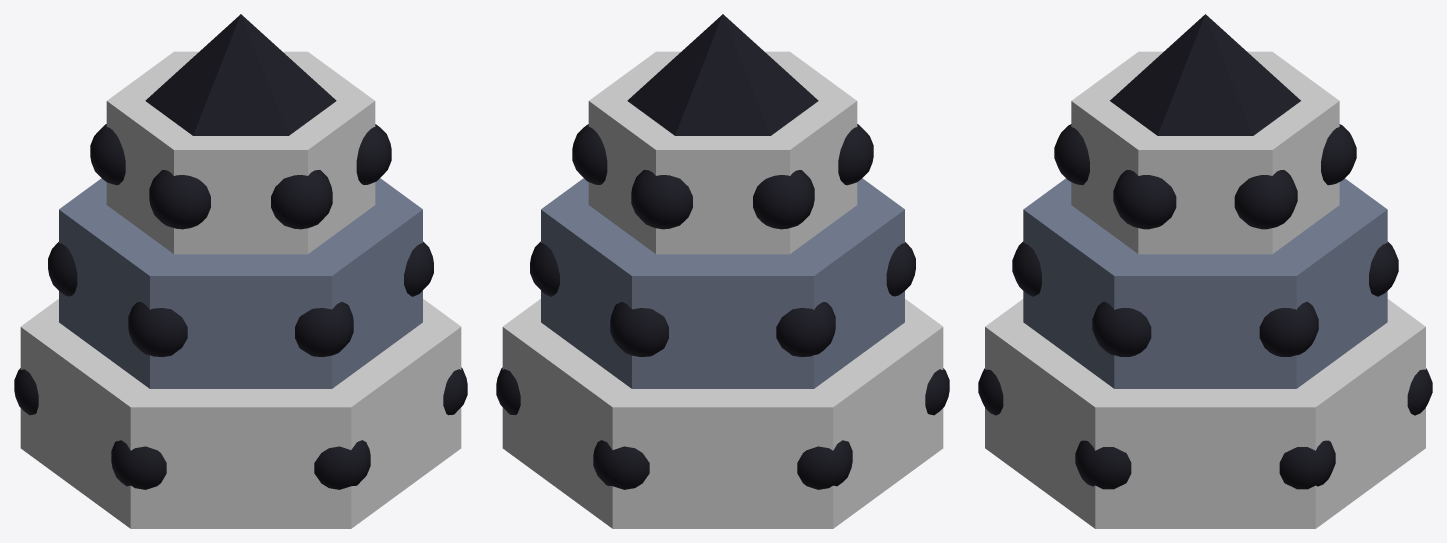
Rendered from Enemy_hive.fbx.
3 renders of one model, left to right at view 1: azimuth 30°, elevation 25°; view 2: azimuth 150°, elevation 25°; view 3: azimuth 270°, elevation 25°, orthographic.
Visible parts, largest first — view 1: Enemy_hive; view 2: Enemy_hive; view 3: Enemy_hive.
Boxes of the visible parts, box(x1,y1,x2,y2) form: Enemy_hive: box(14, 14, 467, 528); Enemy_hive: box(496, 14, 949, 528); Enemy_hive: box(978, 14, 1432, 528).
Bounding box in the file's own units: 0.8356 × 1 × 0.9475.
